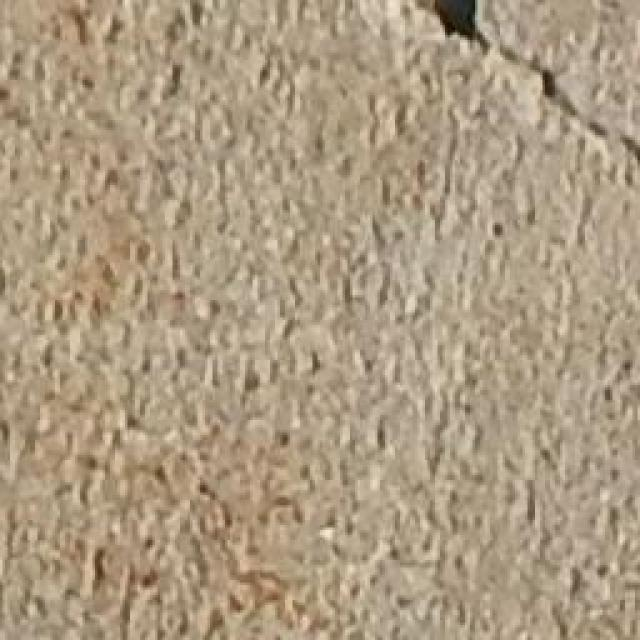concrete-crack: (428, 0, 639, 161)
